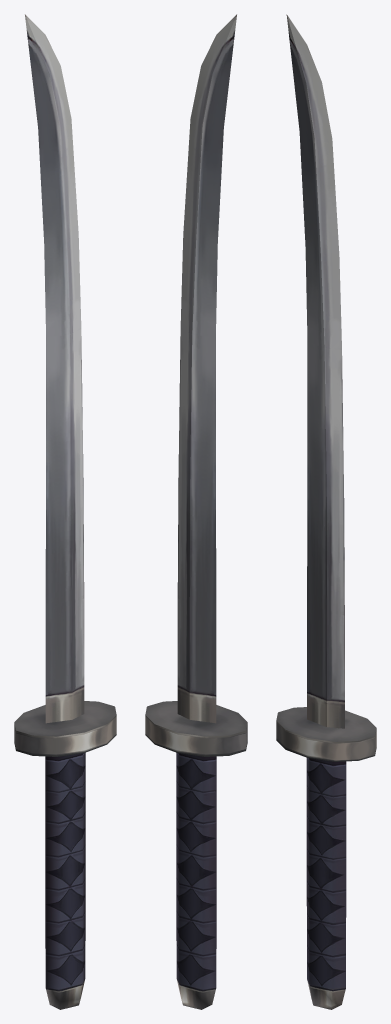
File: Hero_Roi_Cos18Newyear_Weapon.fbx
3 renders of one model, left to right at view 1: azimuth 30°, elevation 25°; view 2: azimuth 150°, elevation 25°; view 3: azimuth 330°, elevation 25°, orthographic.
Visible parts, largest first — view 1: Hero_Roi_Cos18Newyear_Weapon; view 2: Hero_Roi_Cos18Newyear_Weapon; view 3: Hero_Roi_Cos18Newyear_Weapon.
Part boxes in pixels (box(x1,y1,x2,y2)): Hero_Roi_Cos18Newyear_Weapon: box(14, 14, 116, 1009); Hero_Roi_Cos18Newyear_Weapon: box(145, 14, 247, 1009); Hero_Roi_Cos18Newyear_Weapon: box(276, 14, 376, 1009).
Bounding box in the file's own units: 0.078 × 0.7524 × 0.0522.
Materials: 1 (1 with a texture image).
